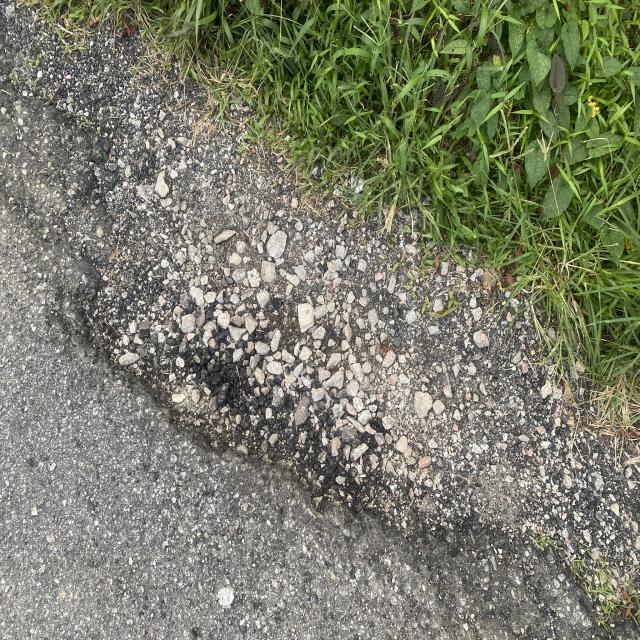Pothole: (62, 182, 504, 600)
